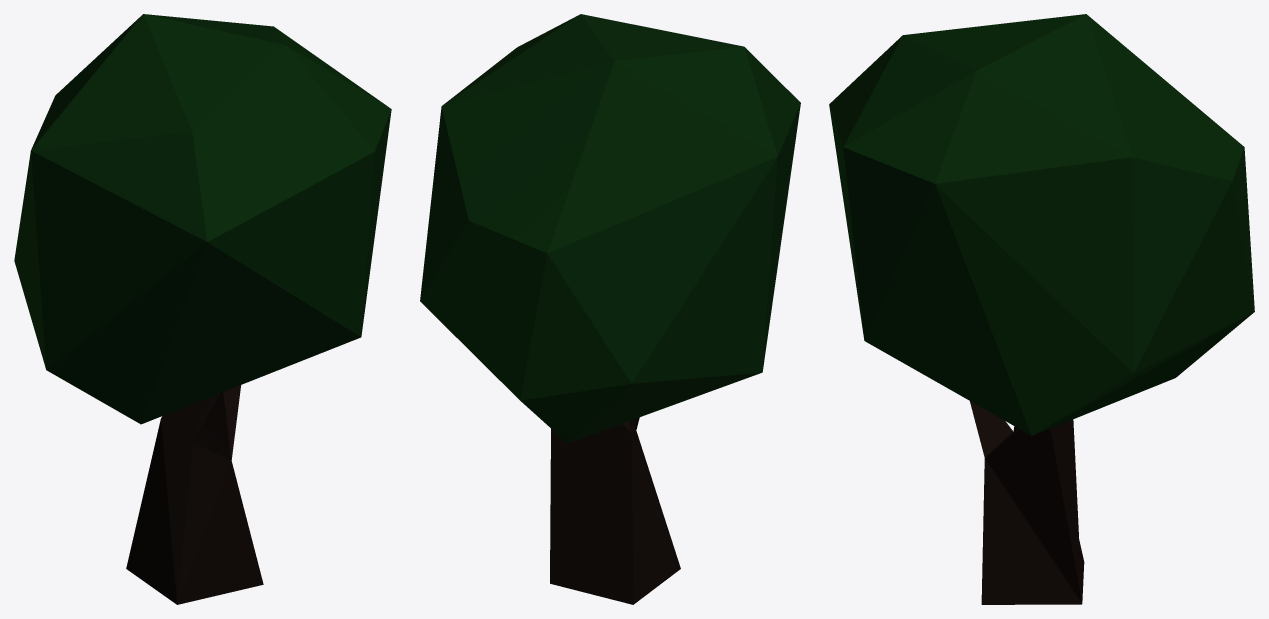
Rendered from Tree_LOD3.FBX.
3 views of the same model, side by side, from view 1: azimuth 30°, elevation 25°; view 2: azimuth 150°, elevation 25°; view 3: azimuth 270°, elevation 25° (orthographic). The views are drawn at different scales.
Visible parts, largest first — view 1: Tree_LOD3; view 2: Tree_LOD3; view 3: Tree_LOD3.
Part boxes in pixels (x1=…): Tree_LOD3: x1=14, y1=14, x2=391, y2=604; Tree_LOD3: x1=420, y1=14, x2=800, y2=604; Tree_LOD3: x1=829, y1=14, x2=1254, y2=604.
Size of the model in its own units: 238 by 399 by 276.
